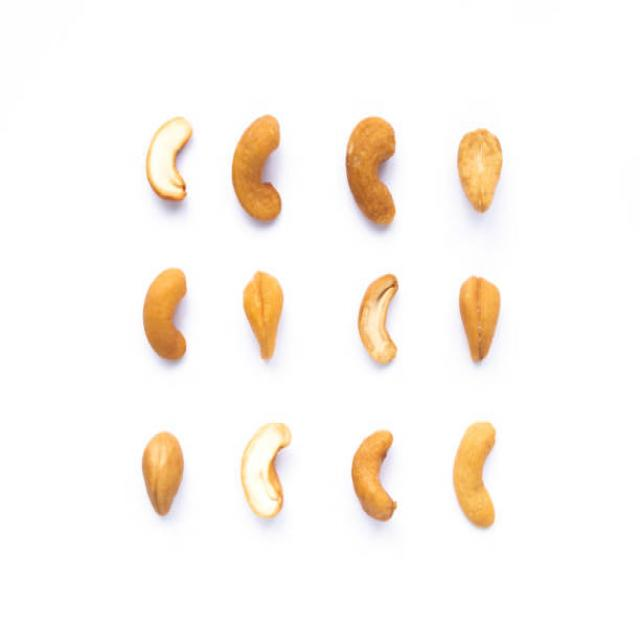cashew: (449, 399, 539, 608), (334, 89, 412, 264), (327, 416, 410, 560), (440, 247, 524, 388), (123, 268, 214, 389), (350, 273, 432, 403), (228, 105, 300, 252), (453, 106, 522, 240), (229, 406, 302, 530), (230, 267, 304, 386), (140, 113, 209, 239), (130, 431, 200, 542)
